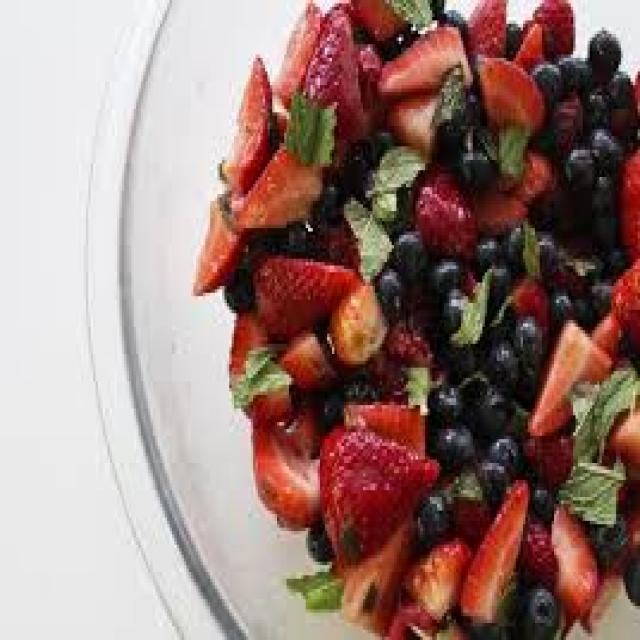food_waste: (270, 4, 640, 633)
